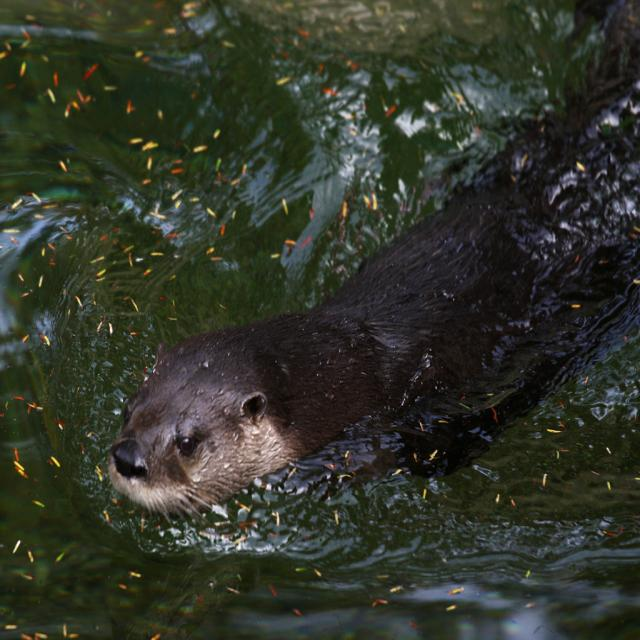otter: (114, 331, 296, 514)
